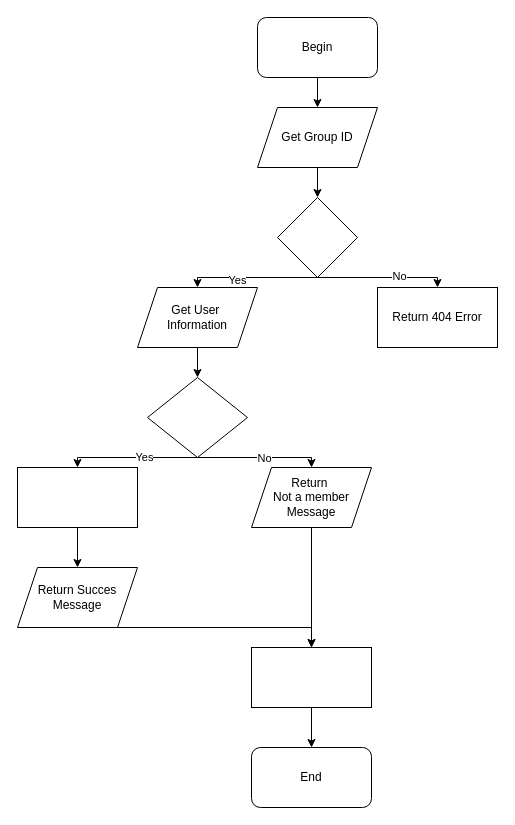
This 515x825 diagram has some shape labels left out. The shapes that lost their labels are listed below. From the top down, each one's box as (x1, y1, x2, y2) in pixels, then its label:
(276, 196, 358, 278): Group ID Exists
(146, 376, 248, 458): Is User a member of the group
(16, 466, 138, 528): Remove User From Group
(250, 646, 372, 708): Redirect to Home Page
